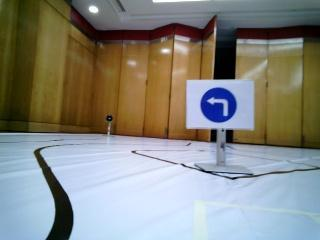left: (186, 80, 252, 128)
